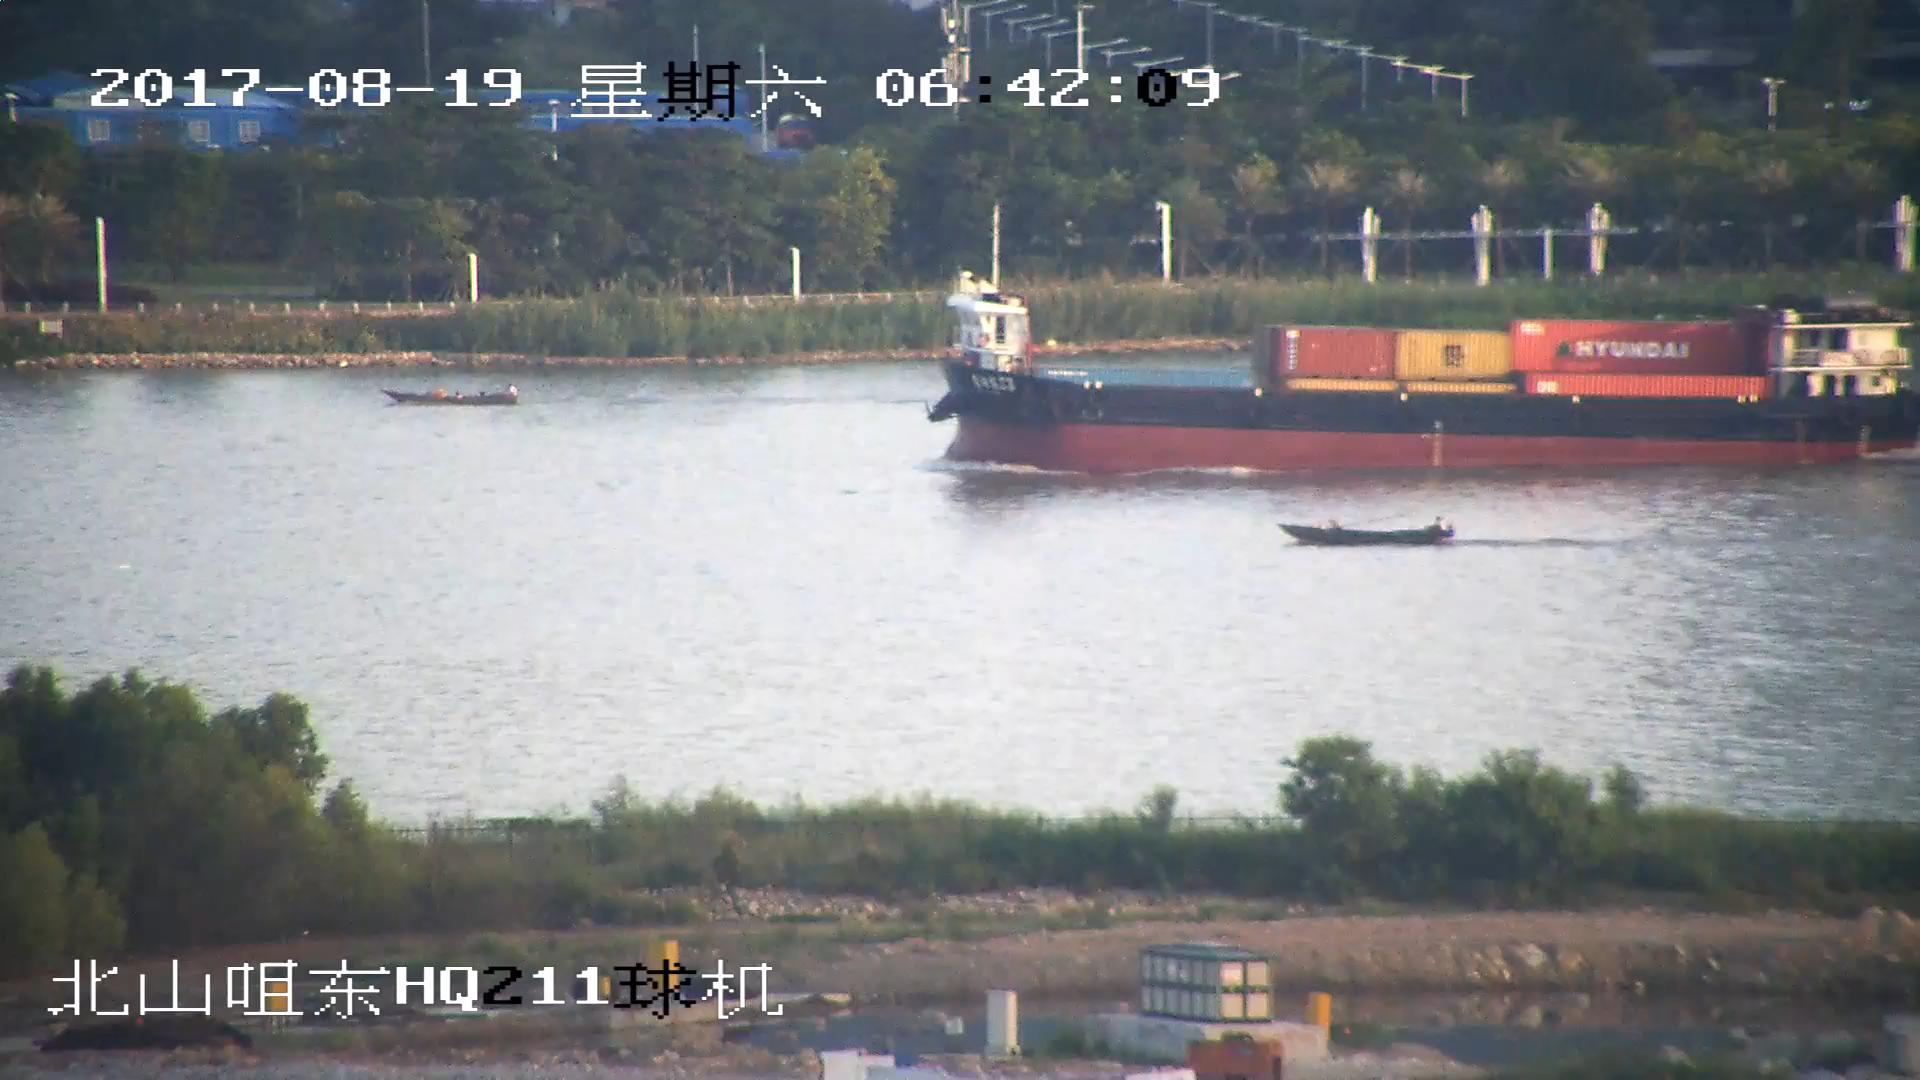container ship: (918, 248, 1920, 479)
fishing boat: (1284, 520, 1454, 548), (382, 382, 520, 412)
